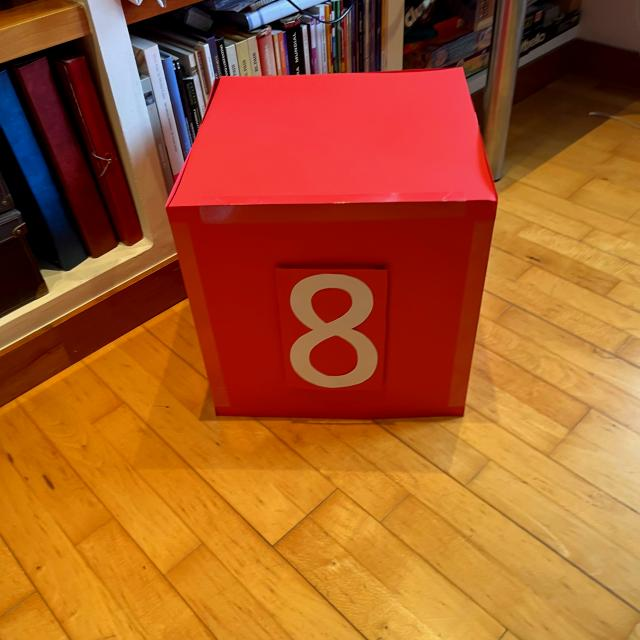box: (162, 65, 500, 422)
